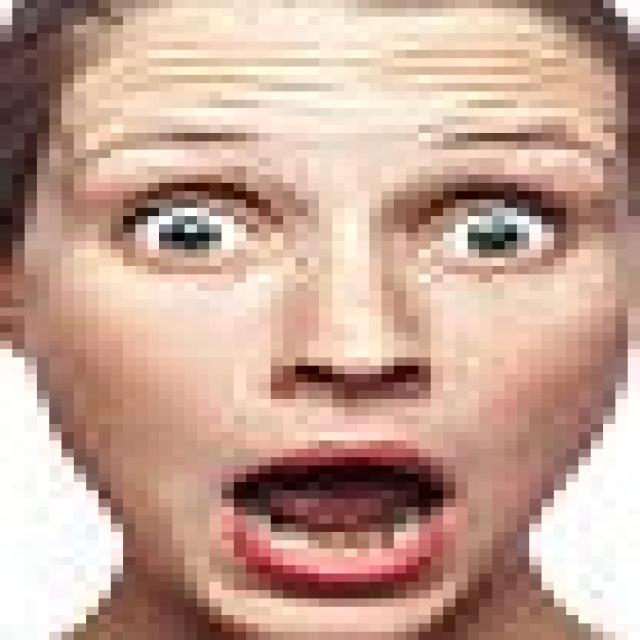Anxiety: (12, 5, 635, 632)
